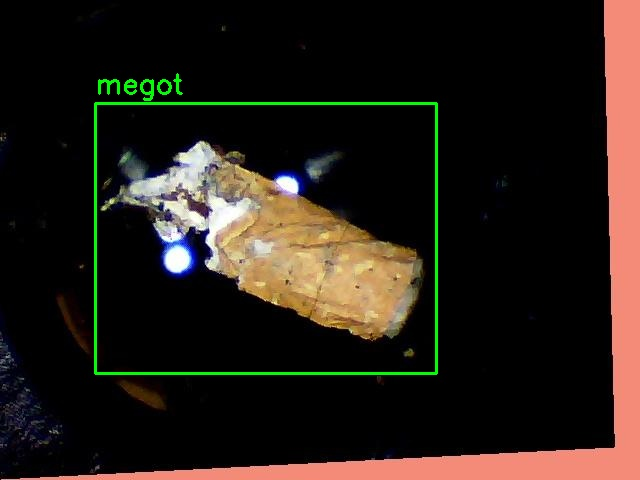megot: (95, 103, 436, 373)
